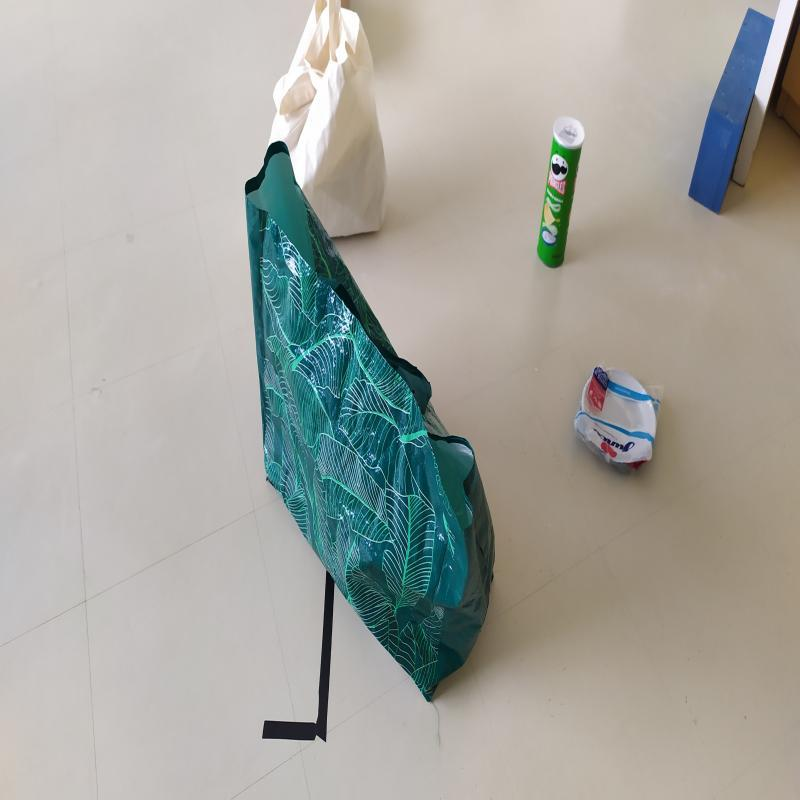Bag: (243, 193, 498, 702), (265, 6, 391, 246)
Plate: (574, 361, 656, 466)
Pringles: (535, 115, 582, 270)
